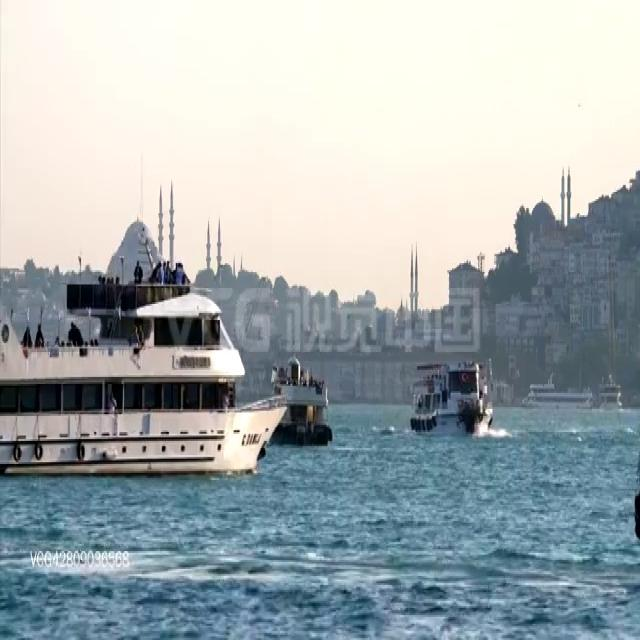houseboat: (271, 356, 333, 452)
passenger ship: (3, 243, 281, 482), (412, 360, 490, 449)
